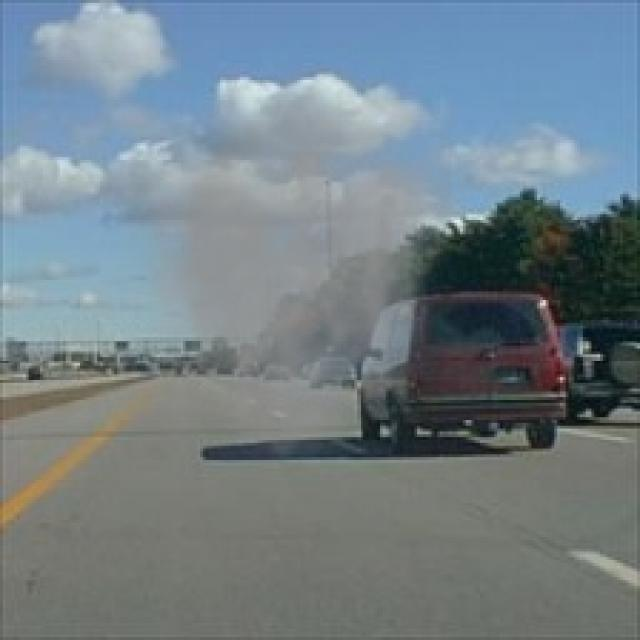Smoke: (109, 60, 452, 477)
